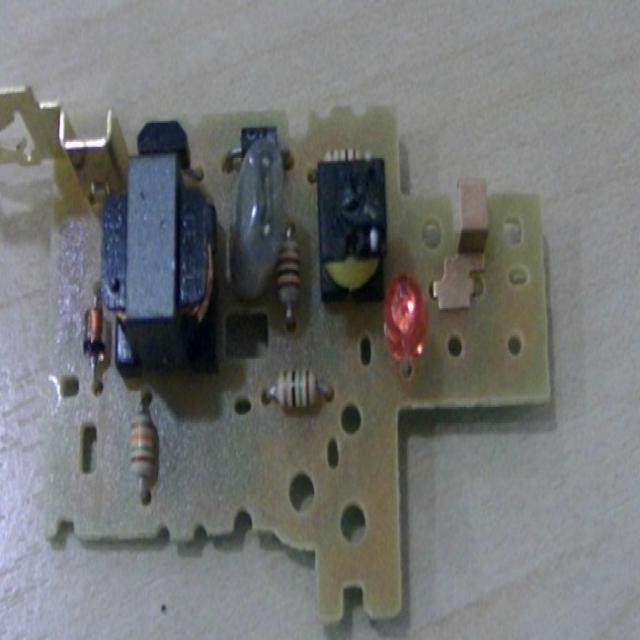019: (315, 161, 387, 309)
223: (230, 143, 282, 303)
DIODE: (222, 122, 296, 172)
LED: (383, 274, 431, 380)
R1: (262, 367, 335, 416)
R2: (279, 225, 301, 328)
R3: (304, 140, 380, 176)
R4: (129, 387, 161, 503)
TCE: (102, 158, 222, 378)
TRANSISTOR: (131, 122, 206, 181)
